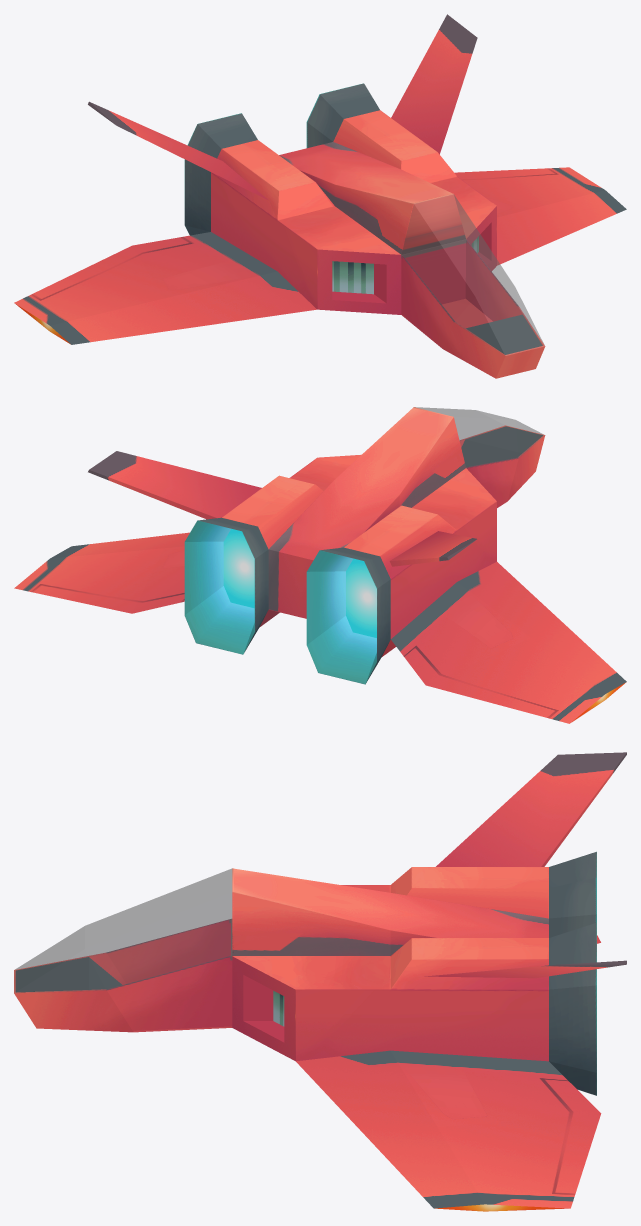
File: spaceship.glb
The picture shows the model from 3 angles, top to bottom: view 1: azimuth 30°, elevation 25°; view 2: azimuth 150°, elevation 25°; view 3: azimuth 270°, elevation 25°; orthographic projection. The views are drawn at different scales.
Visible parts, largest first — view 1: ship.001, ship.003, ship.002, Cube; view 2: ship.001, ship.002, ship.003, Cube; view 3: ship.001, ship.003, ship.002, Cube.
Boxes of the visible parts, x1,y1,x2,y2 form: ship.001: (14,14,626,344); ship.003: (401,193,545,378); ship.002: (402,194,544,355); Cube: (466,314,542,354); ship.001: (14,408,626,723); ship.002: (415,407,544,467); ship.003: (413,407,545,507); Cube: (461,426,542,467); ship.001: (232,752,626,1211); ship.003: (14,868,233,1032); ship.002: (14,868,232,992); Cube: (15,957,121,992).
Bounding box in the file's own units: 4.83 × 1.35 × 3.87.
3 materials, 1 textured.
